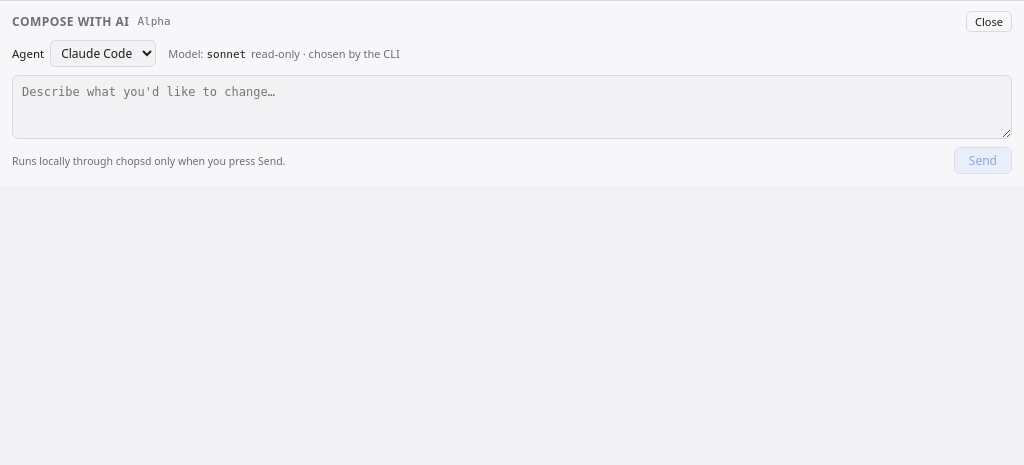
Test: ComposePanel (T16 part B) › accepts the pending write and hands the result back to the editor
Step 1. Type "Tighten the wording" into the text box named "Compose prompt" → (512, 107), box [12,75,1012,139]
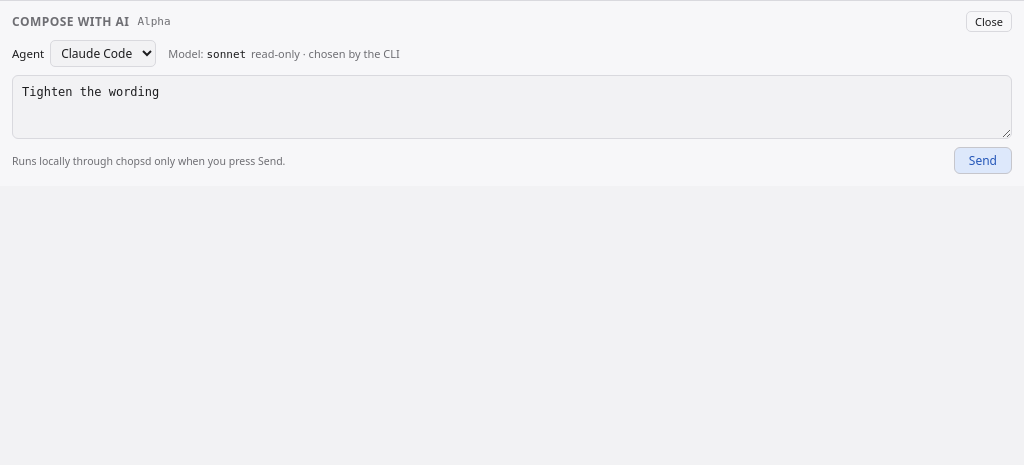
Step 2. Click the button "Send" → (983, 160), box [954,147,1012,174]
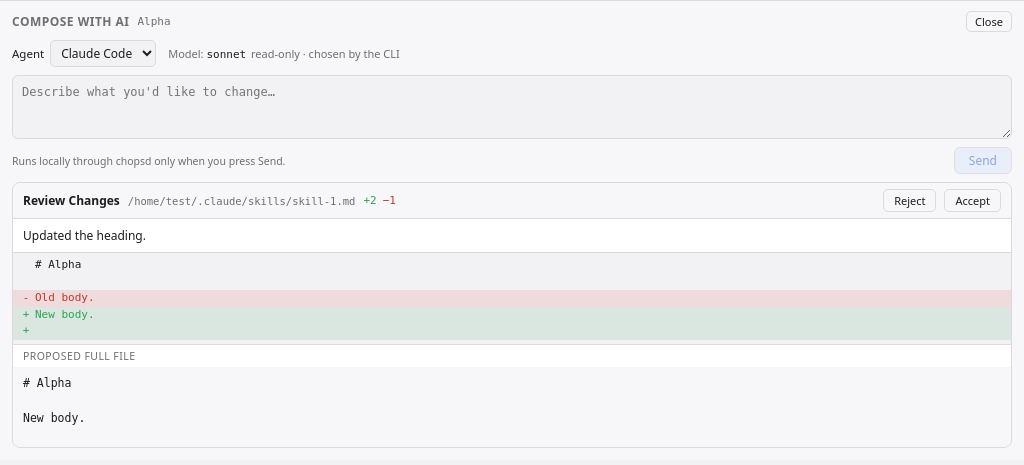
Check: the button "Accept" is shown
Step 3. Click the button "Accept" → (973, 200), box [944,189,1001,212]
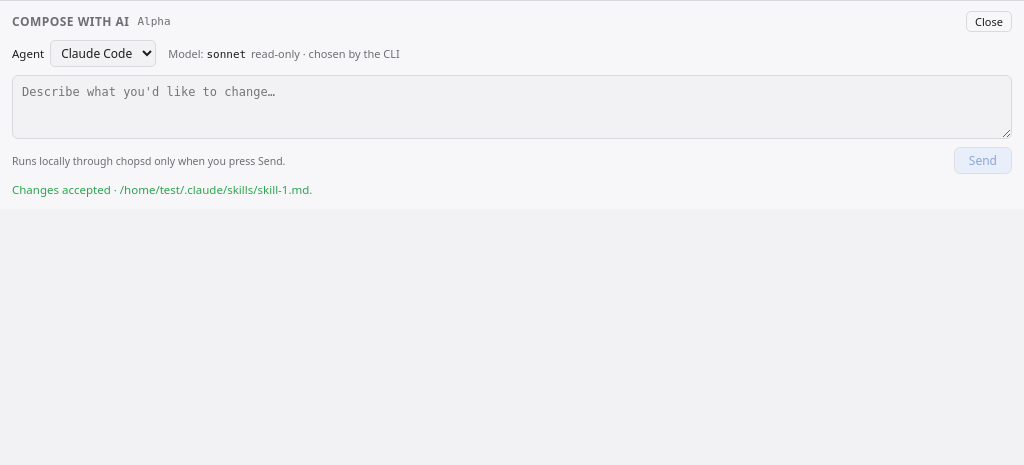
Check: the text "Changes accepted · /home/test/.claude/skills/skill-1.md." is shown, box [12,182,312,197]
